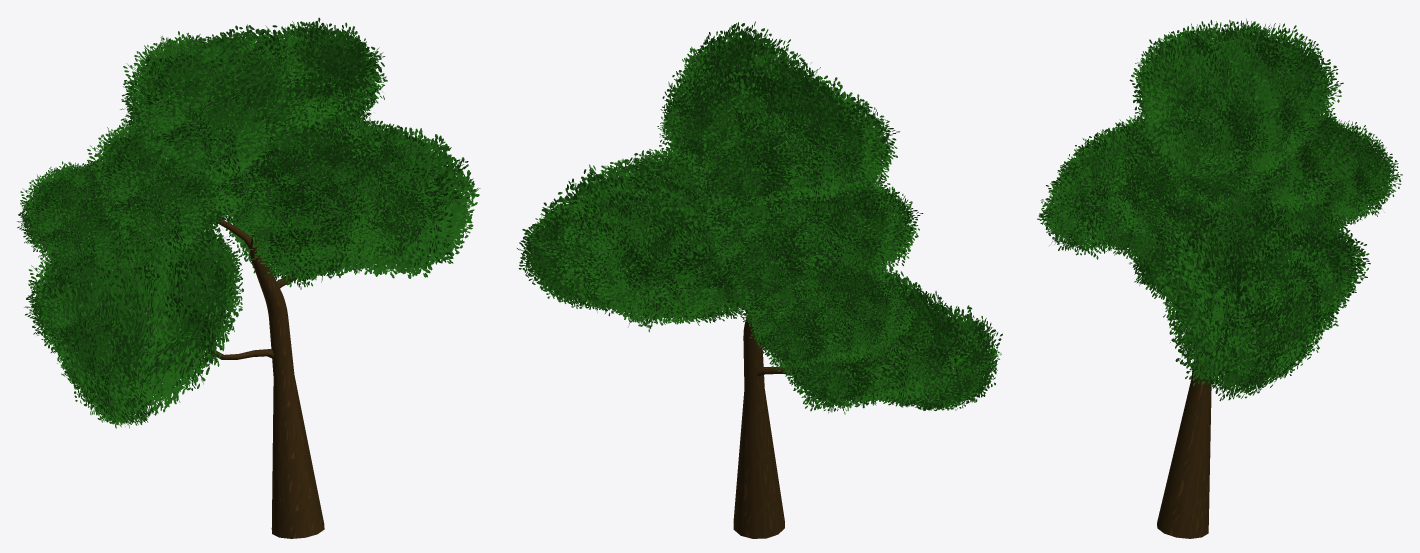
The model's file is cay nho.fbx.
The picture shows the model from 3 angles, left to right: view 1: azimuth 30°, elevation 25°; view 2: azimuth 150°, elevation 25°; view 3: azimuth 270°, elevation 25°; orthographic projection. The views are drawn at different scales.
Parts seen in each view (by area): view 1: Plane.822; view 2: Plane.822; view 3: Plane.822.
Part boxes in pixels (x1,y1,x2,y2): Plane.822: (17, 17, 480, 538); Plane.822: (517, 21, 1002, 538); Plane.822: (1037, 18, 1402, 538).
Bounding box in the file's own units: 963 × 1054 × 703.
Materials: 2 (2 with a texture image).
